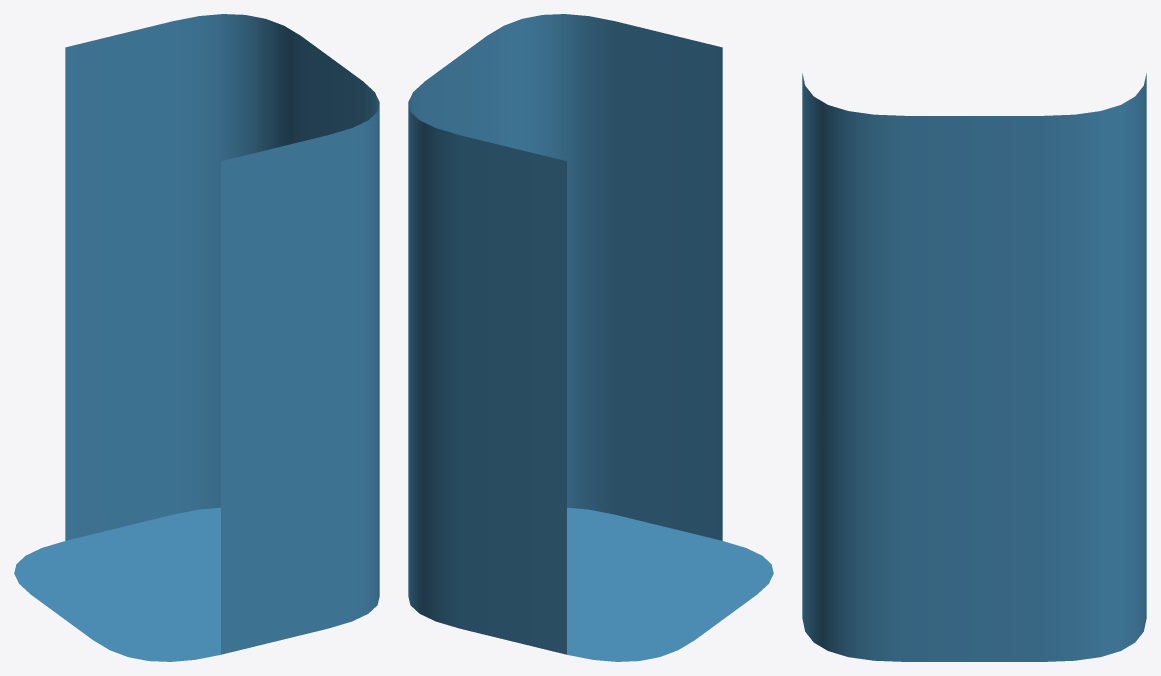
Rendered from UPS_ElevatorPad.glb.
3 renders of one model, left to right at view 1: azimuth 30°, elevation 25°; view 2: azimuth 150°, elevation 25°; view 3: azimuth 270°, elevation 25°, orthographic. The views are drawn at different scales.
Parts seen in each view (by area): view 1: Elevator_collider_001; view 2: Elevator_collider_001; view 3: Elevator_collider_001.
Boxes of the visible parts, bbox=[...] form: Elevator_collider_001: bbox=[14, 14, 379, 661]; Elevator_collider_001: bbox=[408, 14, 773, 661]; Elevator_collider_001: bbox=[802, 73, 1146, 661].
Bounding box in the file's own units: 2 × 3.5 × 2.
1 material, 1 textured.
